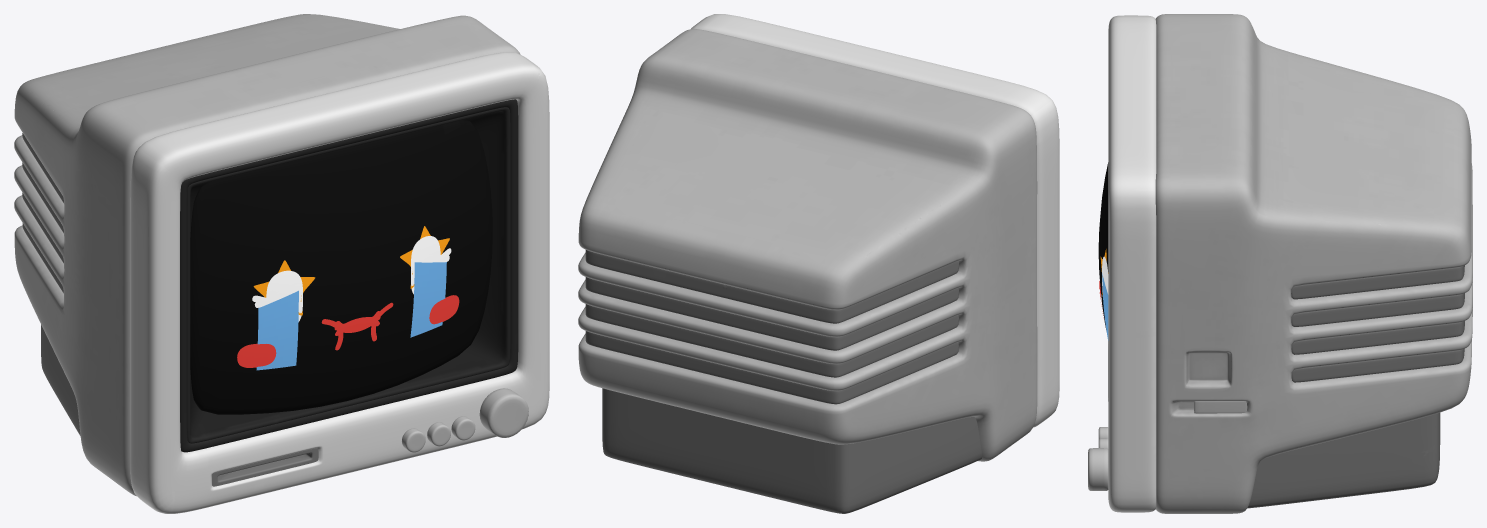
The model's file is robot-transformed.glb.
The picture shows the model from 3 angles, left to right: view 1: azimuth 30°, elevation 25°; view 2: azimuth 150°, elevation 25°; view 3: azimuth 270°, elevation 25°; orthographic projection. The views are drawn at different scales.
Visible parts, largest first — view 1: Computer Head, Angry, Smile, Neutral; view 2: Computer Head; view 3: Computer Head.
Part boxes in pixels (x1=…): Computer Head: x1=14, y1=14, x2=549, y2=513; Angry: x1=237, y1=226, x2=459, y2=370; Smile: x1=245, y1=237, x2=449, y2=367; Neutral: x1=244, y1=236, x2=453, y2=346; Computer Head: x1=578, y1=14, x2=1059, y2=513; Computer Head: x1=1088, y1=14, x2=1472, y2=513.
Bounding box in the file's own units: 3.63 × 3.17 × 3.27.
2 materials, 2 textured.
